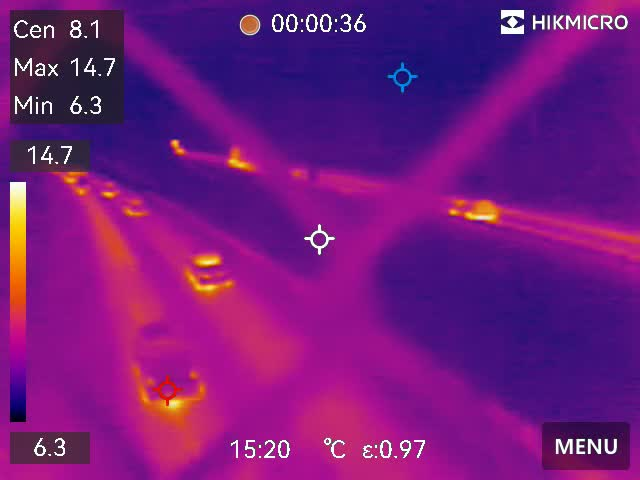vehicle: (130, 326, 208, 402), (185, 250, 235, 291)
